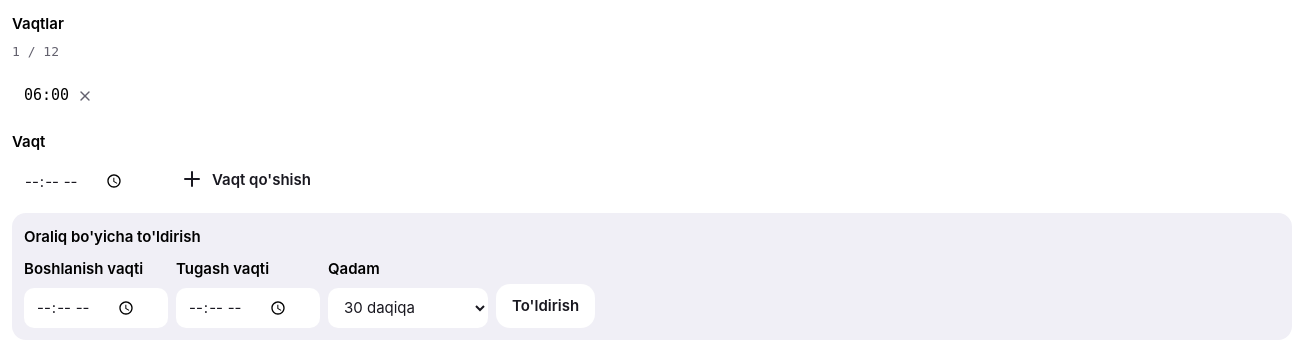
Test: oraliq bo'yicha to'ldirish › tugash boshlanishdan oldin bo'lsa sabab aytiladi
Type "08:00" into the time field labelled "Boshlanish vaqti" at (96,308), box [24,288,168,328]
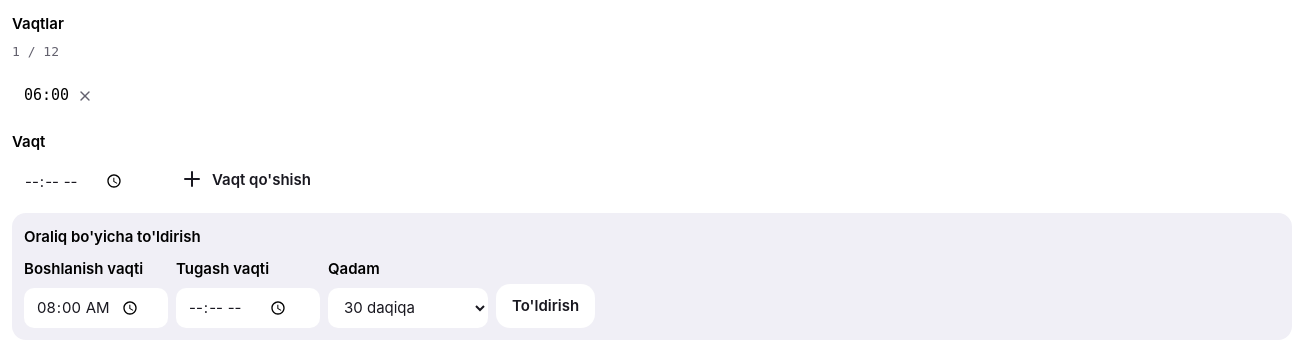
Type "07:00" into the time field labelled "Tugash vaqti" at (248,308), box [176,288,320,328]
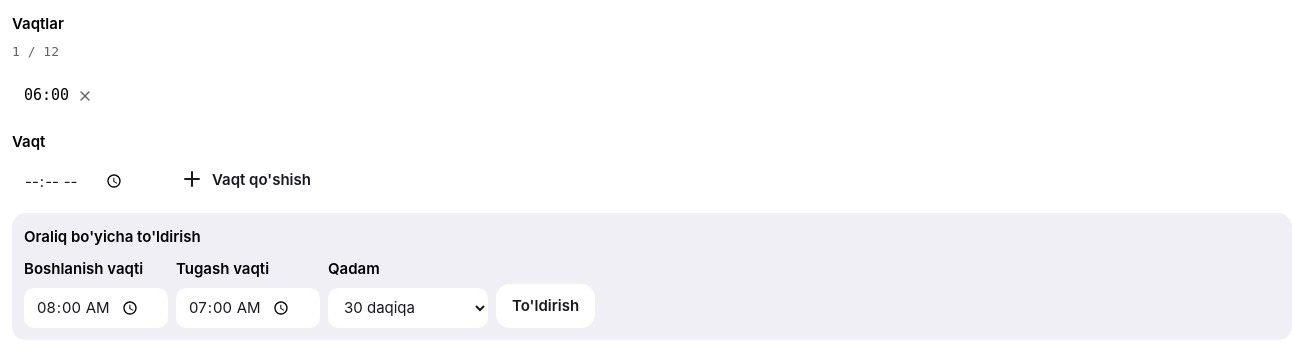
Select "30 daqiqa" in the dropdown labelled "Qadam" at (408,308), box [328,288,488,328]
Click the button "To'ldirish" at (546,306), box [496,284,595,328]
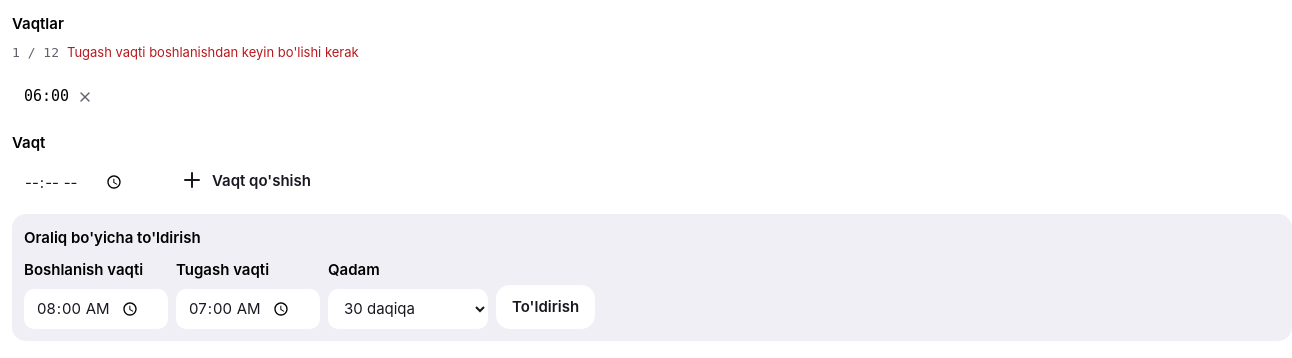
Expected: the number of list items is 1, [24,85,97,109]
Expected: the message shows "Tugash vaqti boshlanishdan keyin bo'lishi kerak", [67,44,359,60]
